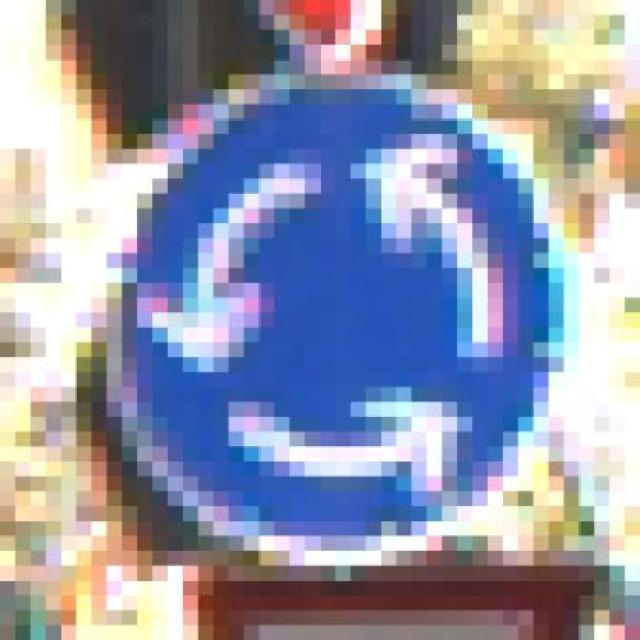Round-About: (61, 59, 579, 581)
